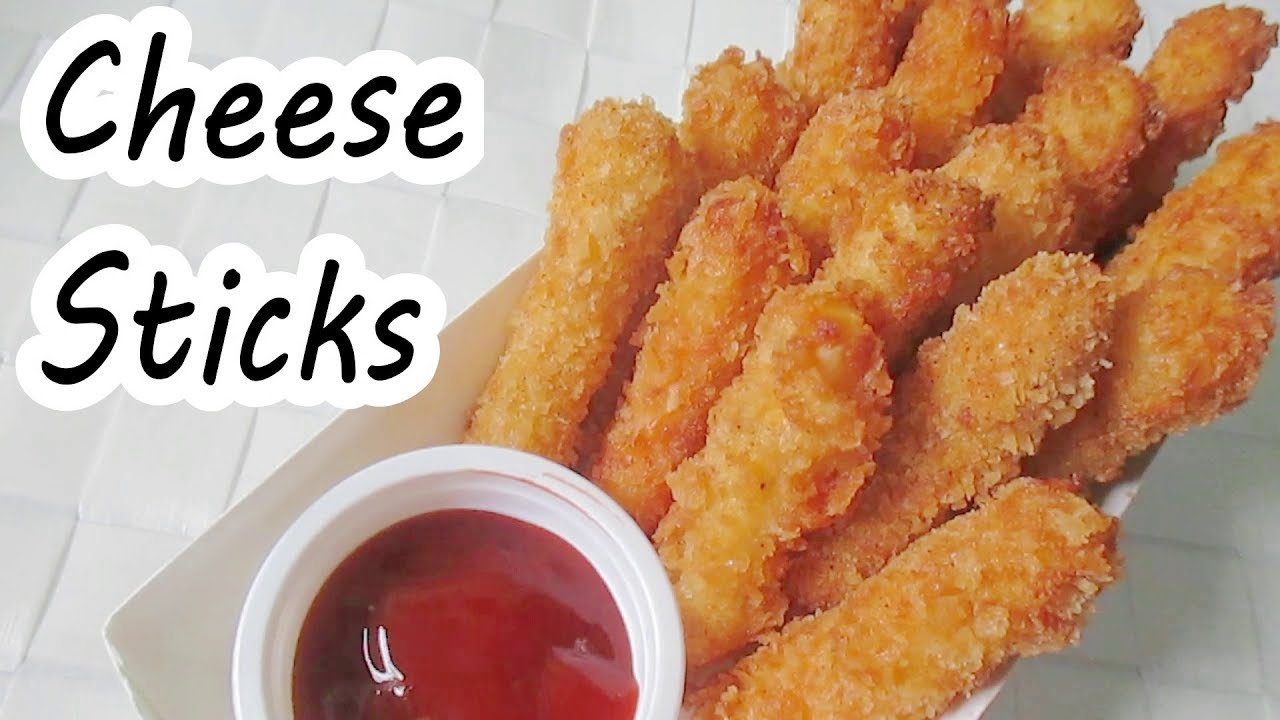cheese: (671, 92, 1101, 610)
